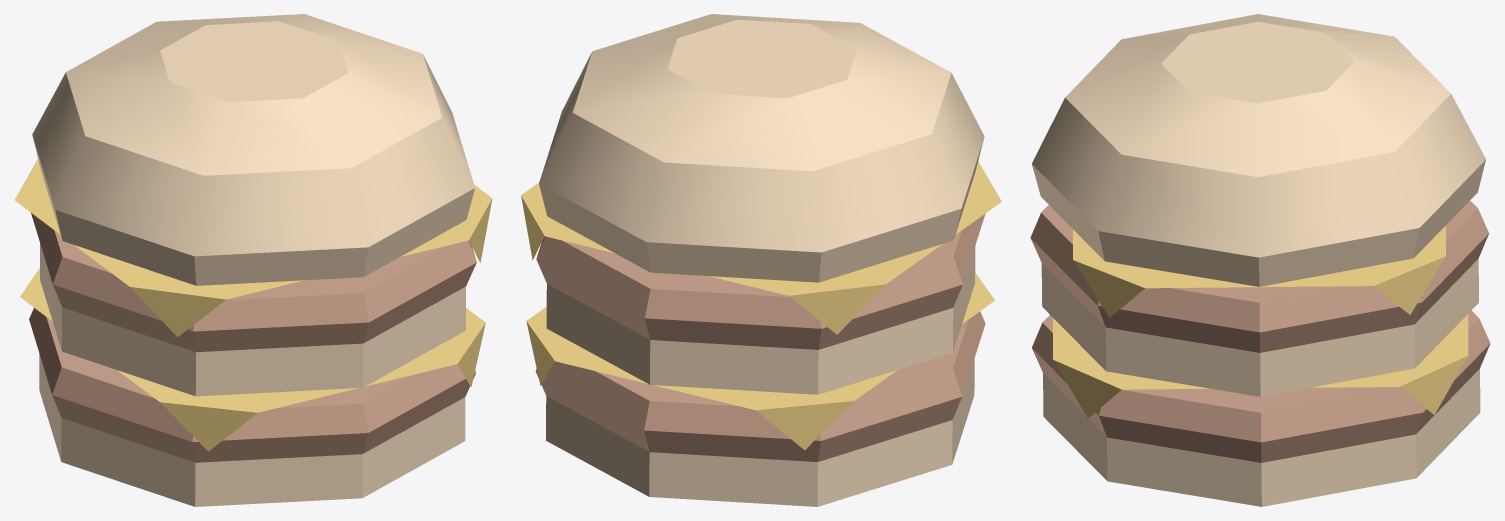
Rendered from burgerCheeseDouble.glb.
The picture shows the model from 3 angles, left to right: view 1: azimuth 30°, elevation 25°; view 2: azimuth 150°, elevation 25°; view 3: azimuth 270°, elevation 25°; orthographic projection.
Visible parts, largest first — view 1: bunTop.002, patty.003, patty.002, bunBottom.002, bunBottom.003, cheese.002, cheese.003; view 2: bunTop.002, patty.003, patty.002, bunBottom.003, bunBottom.002, cheese.002, cheese.003; view 3: bunTop.002, patty.002, patty.003, bunBottom.002, bunBottom.003, cheese.003, cheese.002.
Part boxes in pixels (x1,y1,x2,y2): bunTop.002: (32, 14, 474, 285); patty.003: (31, 213, 476, 352); patty.002: (29, 308, 475, 462); bunBottom.002: (39, 354, 465, 506); bunBottom.003: (40, 243, 465, 396); cheese.002: (20, 268, 485, 451); cheese.003: (14, 159, 492, 337); bunTop.002: (539, 14, 984, 282); patty.003: (536, 213, 985, 349); patty.002: (535, 311, 985, 461); bunBottom.003: (546, 246, 975, 394); bunBottom.002: (546, 359, 974, 506); cheese.002: (526, 273, 994, 450); cheese.003: (521, 161, 1001, 334); bunTop.002: (1032, 14, 1485, 286); patty.002: (1032, 310, 1490, 462); patty.003: (1030, 200, 1489, 352); bunBottom.002: (1043, 369, 1480, 506); bunBottom.003: (1041, 259, 1478, 396); cheese.003: (1073, 225, 1445, 317); cheese.002: (1053, 314, 1468, 418).
Size of the model in its own units: 0.378 by 0.3228 by 0.3791.
